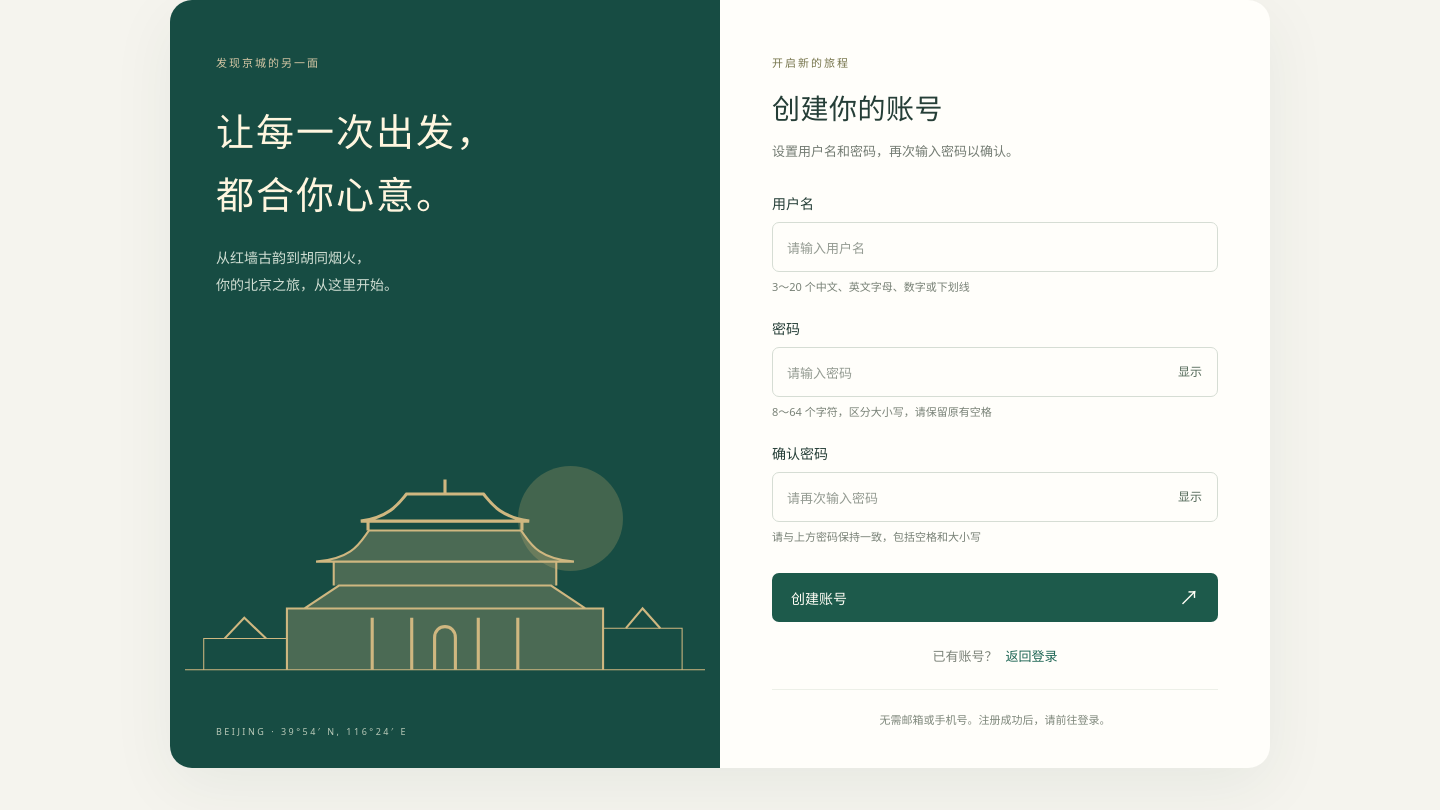
账号表单 › 确认密码为空或与密码原值不同，阻止注册：different-password
Type "test_user" into the field with id "username" at coordinates (995, 247), box x1=772 y1=222 x2=1218 y2=272
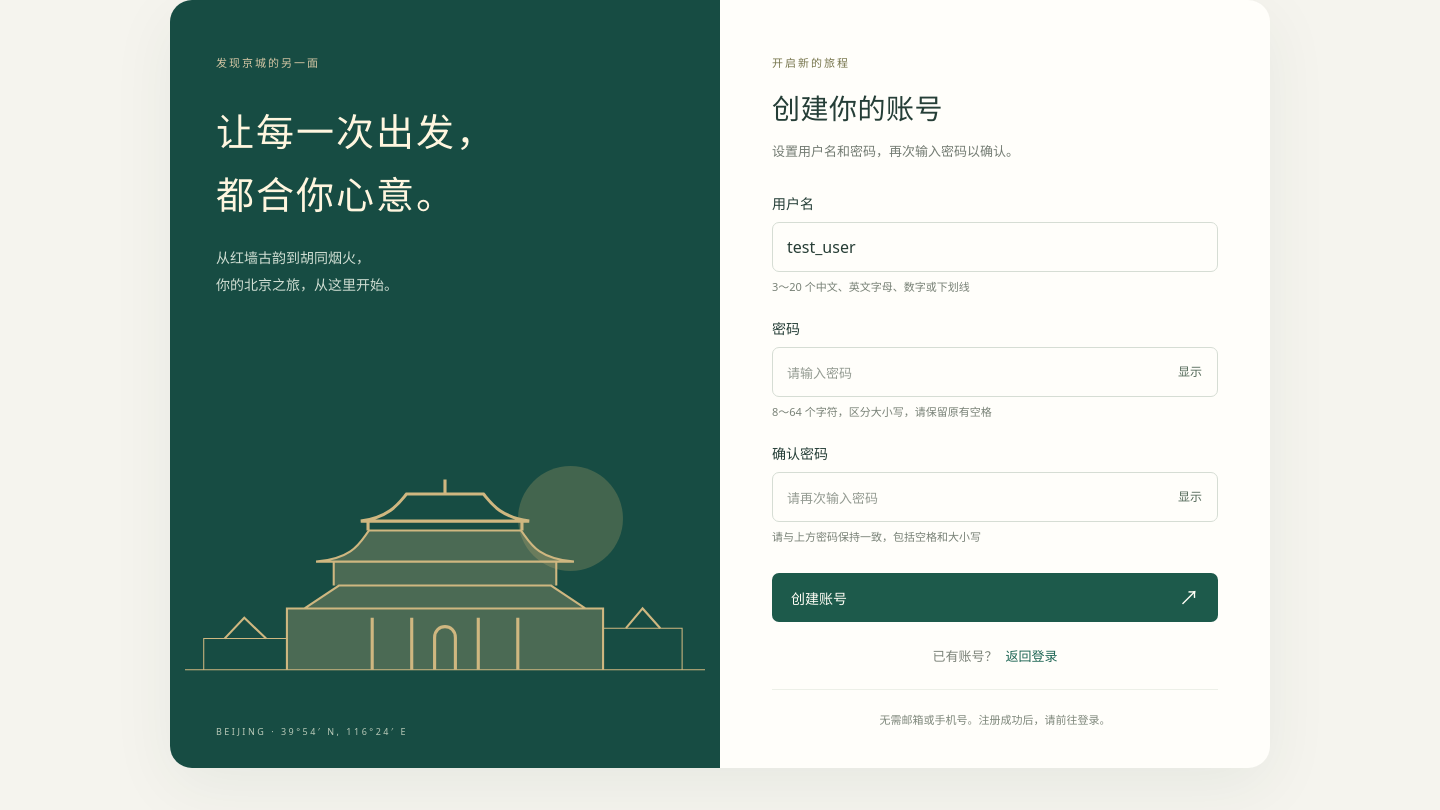
Type "  abcdef" into the password field labelled "密码" at coordinates (995, 372), box x1=772 y1=347 x2=1218 y2=397
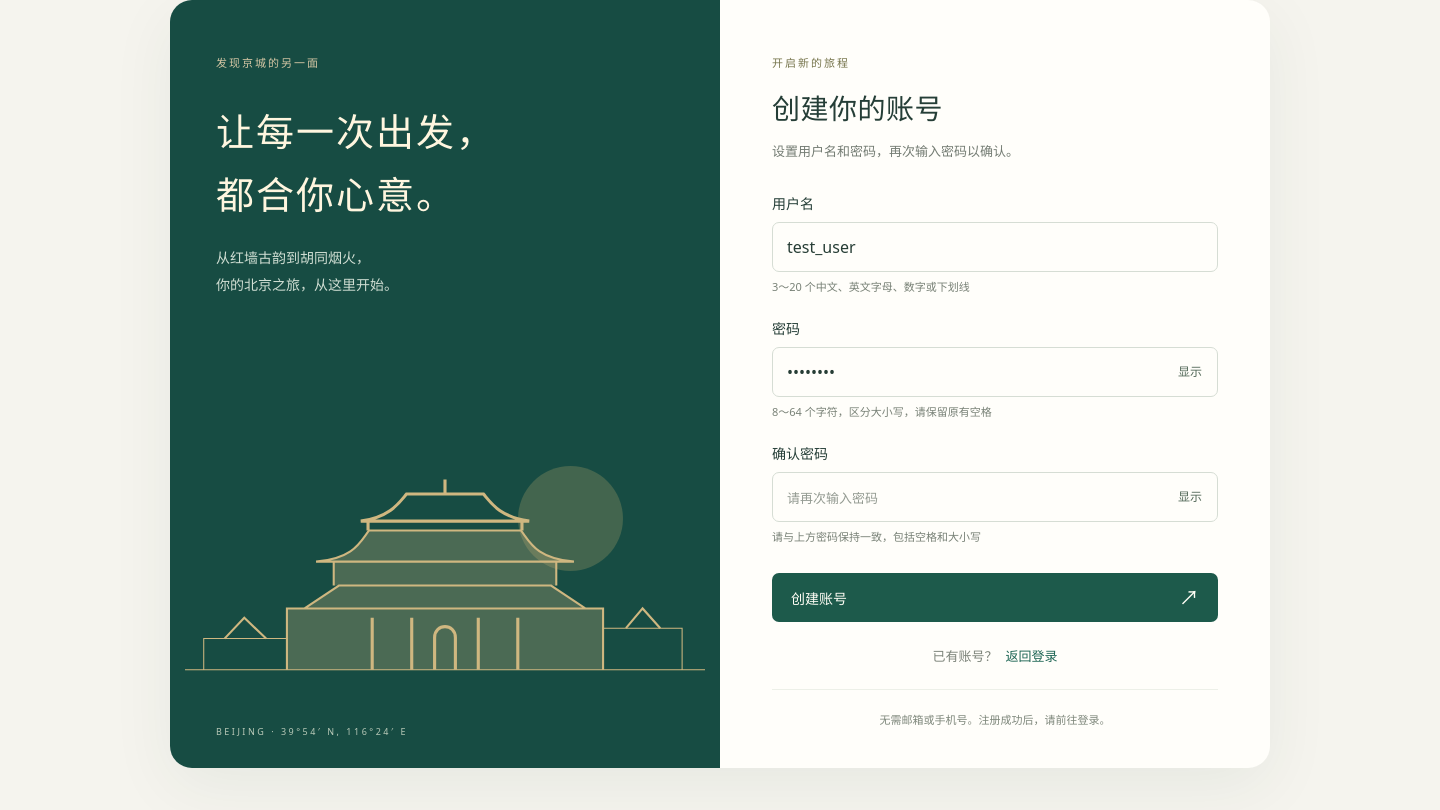
Type "different-password" into the password field with id "confirm-password" at coordinates (995, 497), box x1=772 y1=472 x2=1218 y2=522
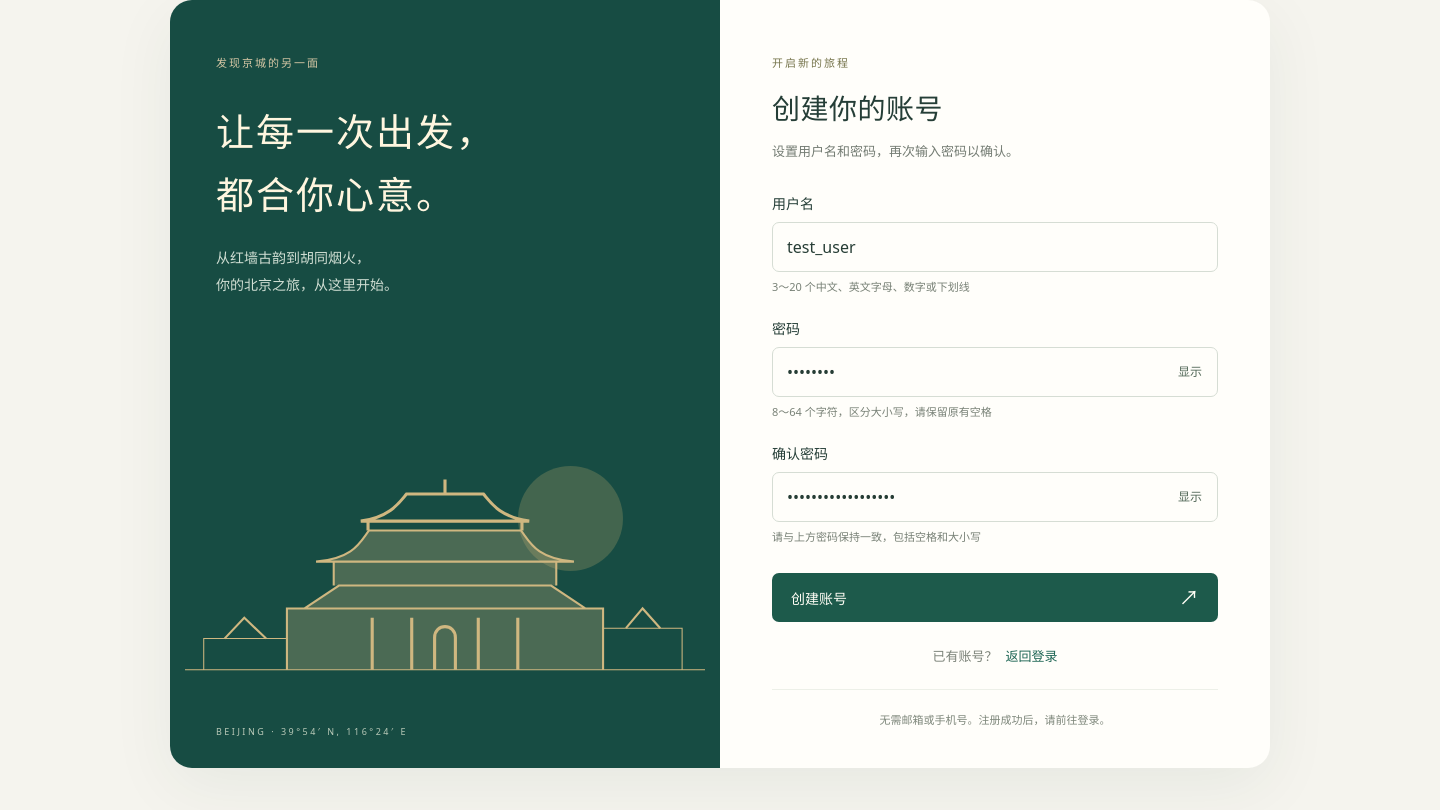
Submit the form, box x1=772 y1=193 x2=1218 y2=622
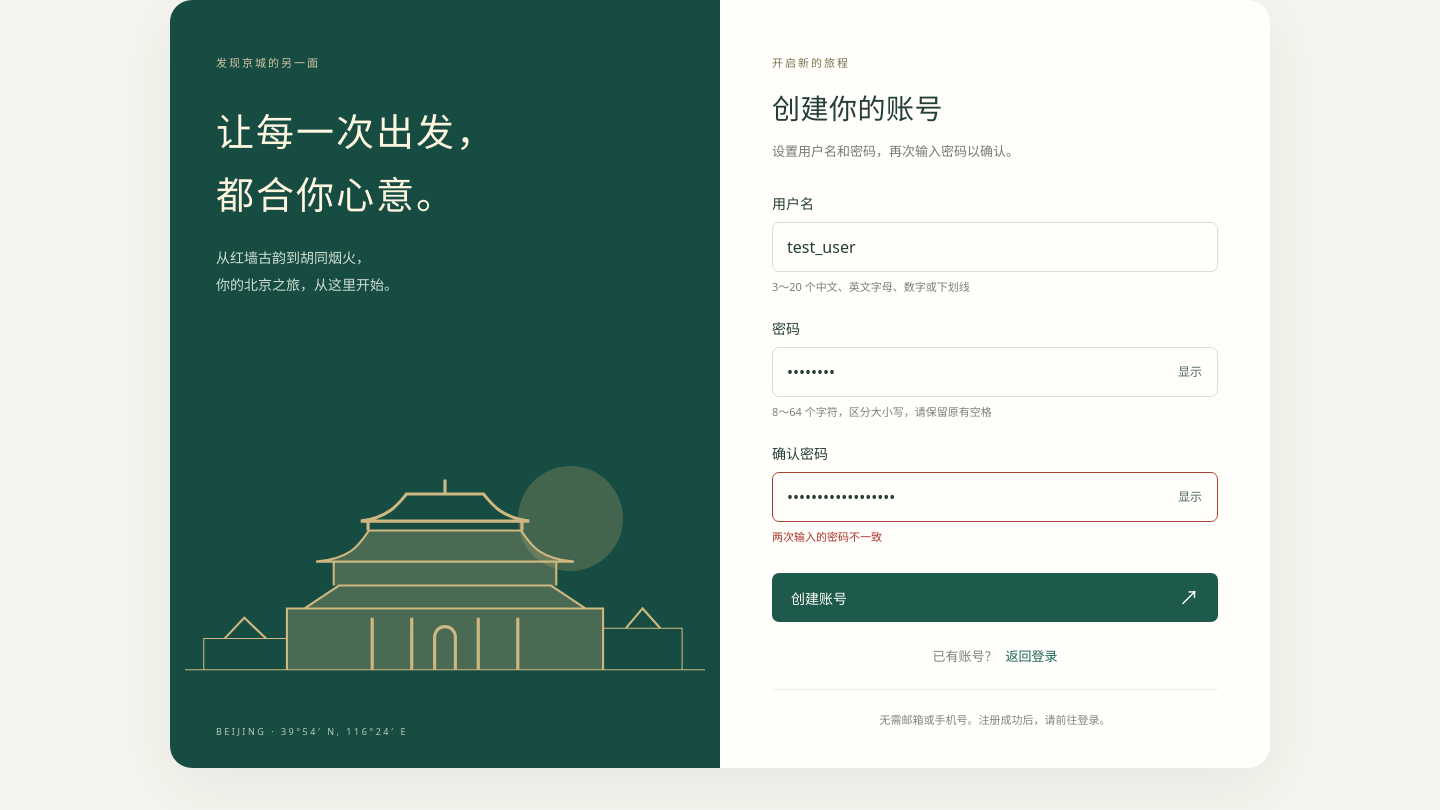
Expected: the message with id "confirm-password-error" reads "两次输入的密码不一致", x1=772 y1=529 x2=882 y2=544
